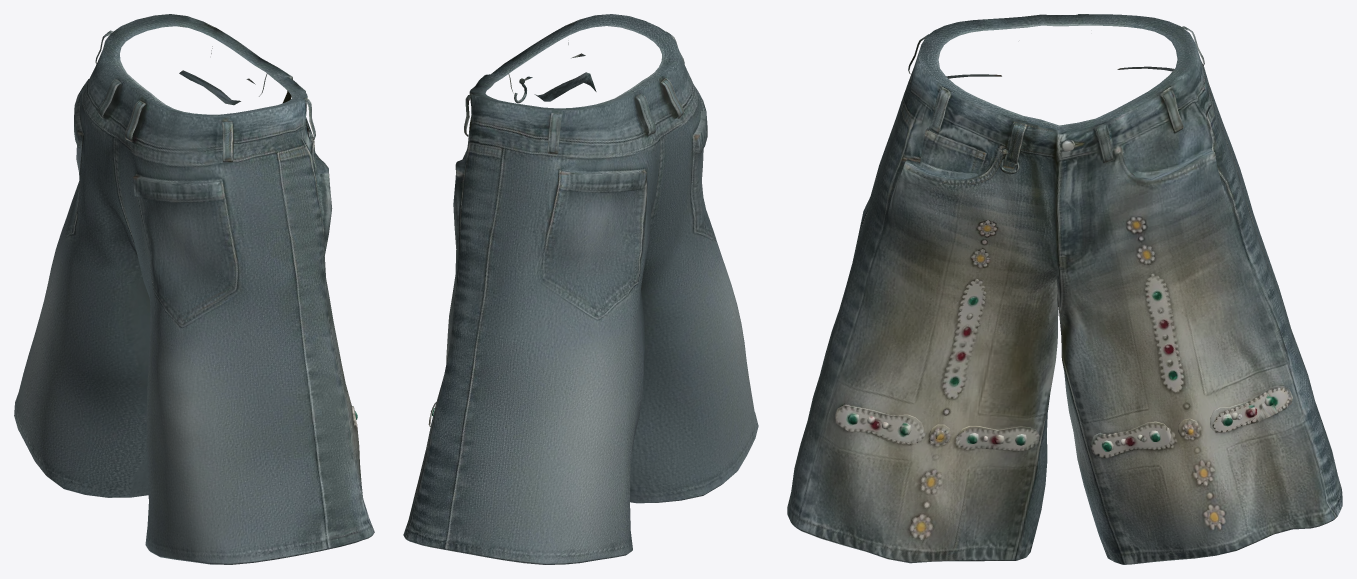
Rendered from sapphire-jorts.glb.
3 views of the same model, side by side, from view 1: azimuth 30°, elevation 25°; view 2: azimuth 150°, elevation 25°; view 3: azimuth 270°, elevation 25° (orthographic). The views are drawn at different scales.
Parts seen in each view (by area): view 1: tripo_node_012cde7f-4641-401d-8941-7098facc0b26; view 2: tripo_node_012cde7f-4641-401d-8941-7098facc0b26; view 3: tripo_node_012cde7f-4641-401d-8941-7098facc0b26.
Boxes of the visible parts, bbox=[...] form: tripo_node_012cde7f-4641-401d-8941-7098facc0b26: bbox=[14, 14, 374, 564]; tripo_node_012cde7f-4641-401d-8941-7098facc0b26: bbox=[403, 14, 758, 564]; tripo_node_012cde7f-4641-401d-8941-7098facc0b26: bbox=[787, 14, 1342, 564].
Bounding box in the file's own units: 0.4595 × 0.9927 × 0.9995.
Materials: 1 (1 with a texture image).
